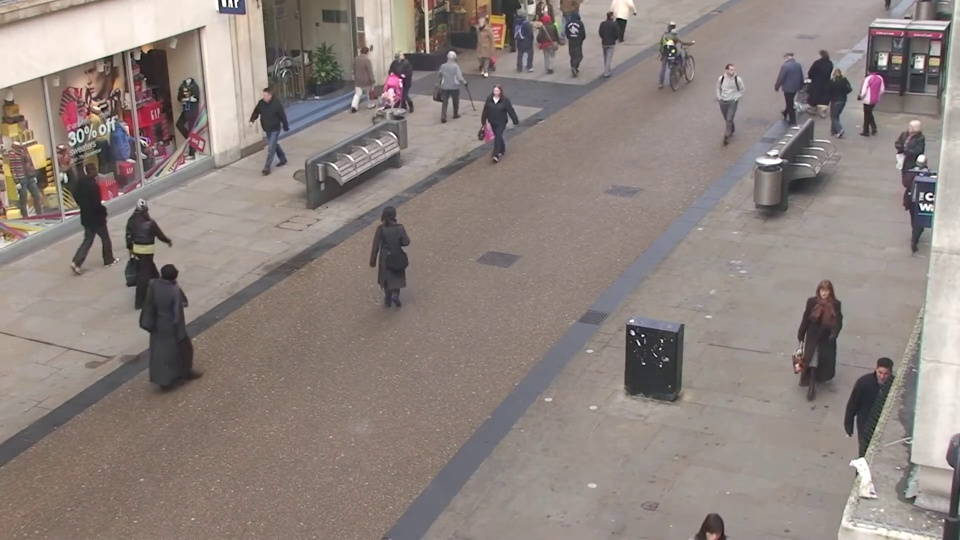pedestrian: (848, 360, 911, 525), (792, 278, 845, 417), (162, 253, 215, 382), (134, 188, 181, 300), (894, 145, 942, 251), (82, 152, 129, 255), (371, 197, 412, 315), (884, 117, 929, 216), (848, 60, 884, 145), (246, 87, 280, 174), (812, 62, 846, 145), (481, 84, 511, 171), (800, 45, 832, 123), (714, 62, 743, 144), (767, 48, 797, 127), (443, 46, 470, 122), (383, 48, 410, 124), (358, 40, 385, 114), (664, 14, 688, 83), (468, 17, 492, 85), (568, 8, 591, 74), (537, 12, 560, 78), (514, 7, 537, 73), (600, 8, 622, 74)
